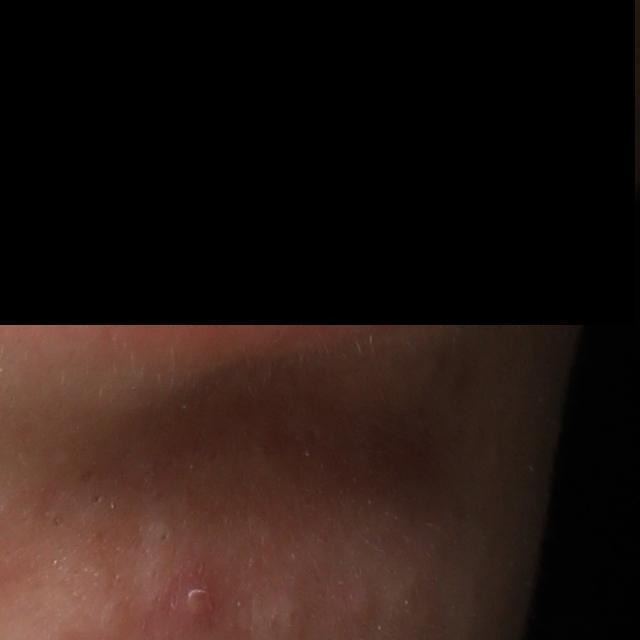comedo: (155, 526, 177, 545)
